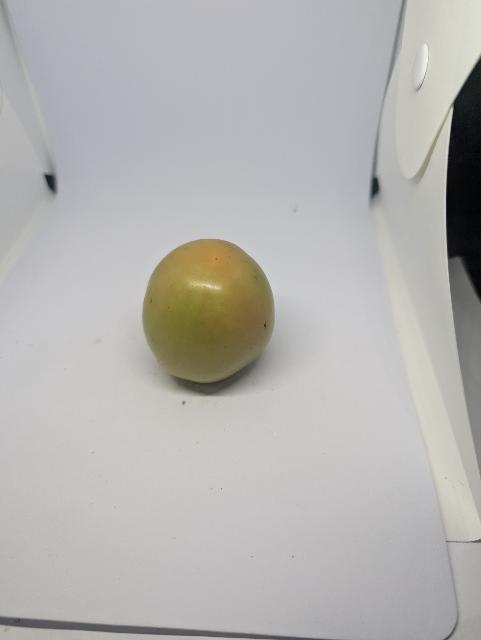breaker: (139, 232, 286, 389)
